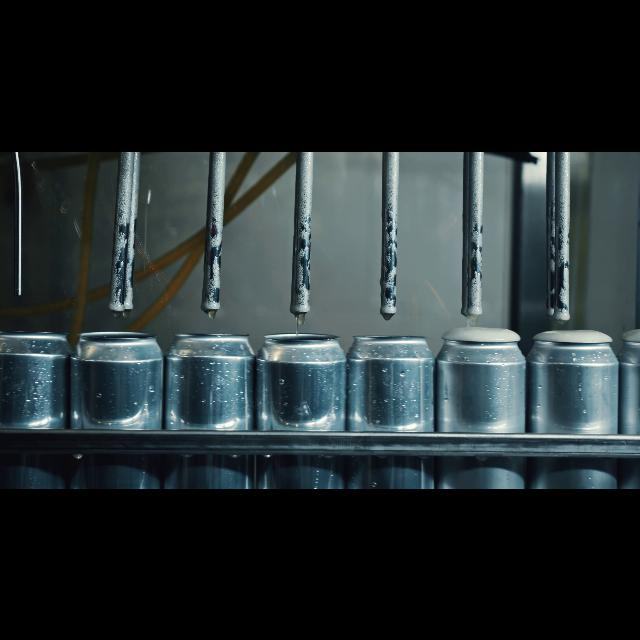empty: (72, 324, 162, 488), (169, 326, 259, 488), (264, 324, 342, 488), (352, 329, 426, 488), (0, 329, 72, 488)
full: (434, 314, 524, 488), (526, 316, 614, 488)
